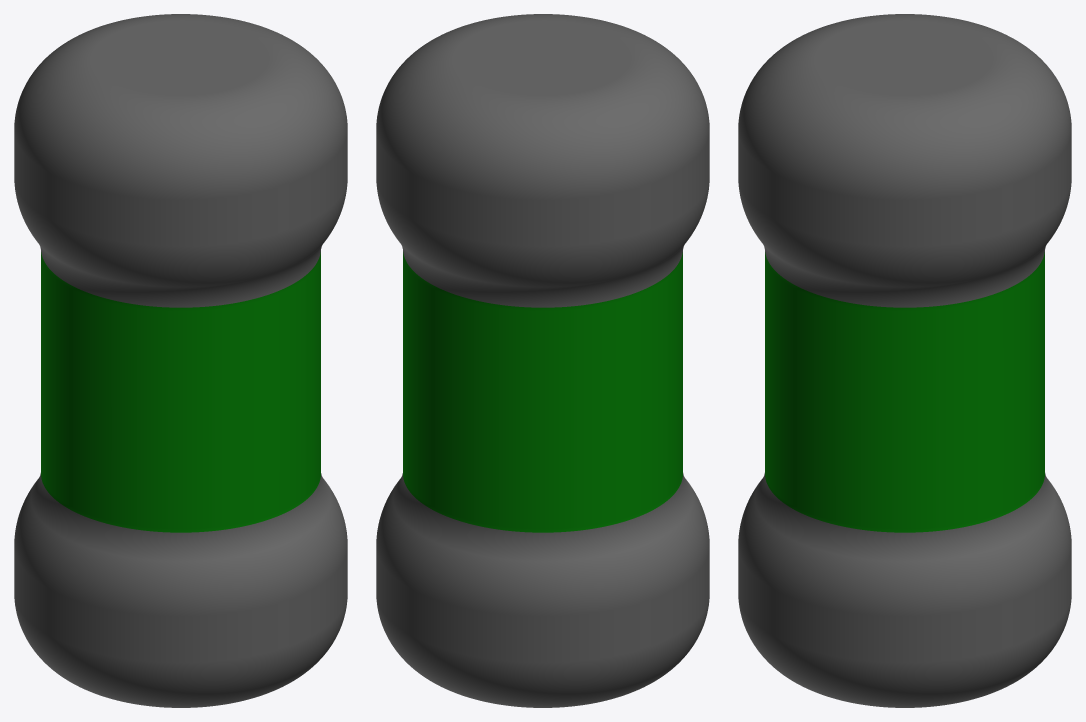
The model's file is uraniumcanister.obj.
3 renders of one model, left to right at view 1: azimuth 30°, elevation 25°; view 2: azimuth 150°, elevation 25°; view 3: azimuth 270°, elevation 25°, orthographic.
Parts seen in each view (by area): view 1: conister; view 2: conister; view 3: conister.
Part boxes in pixels (bbox=[...]): conister: bbox=[14, 14, 347, 707]; conister: bbox=[376, 14, 709, 707]; conister: bbox=[738, 14, 1071, 707].
Bounding box in the file's own units: 0.4944 × 0.9887 × 0.4942.
